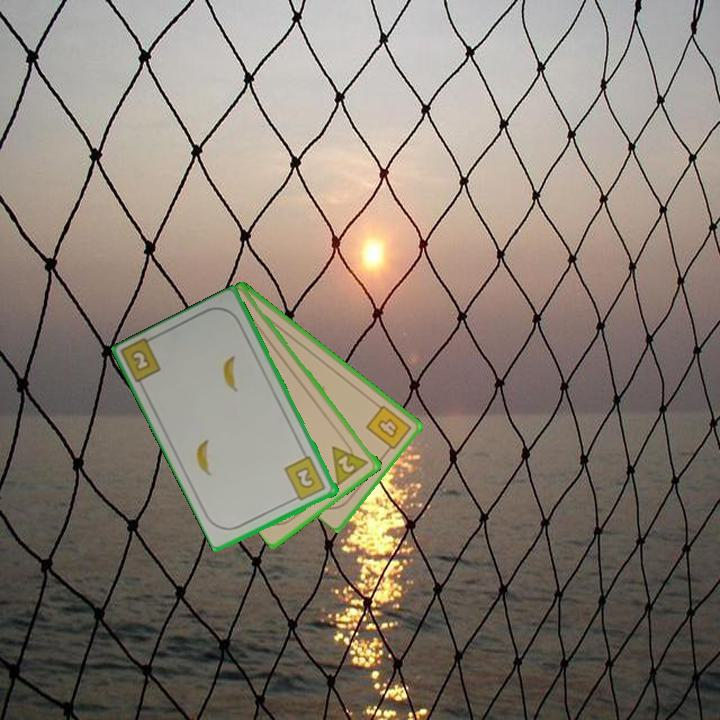2b: (281, 453, 329, 504), (127, 346, 154, 375)
2p: (328, 436, 373, 488)
4b: (362, 401, 414, 456)
